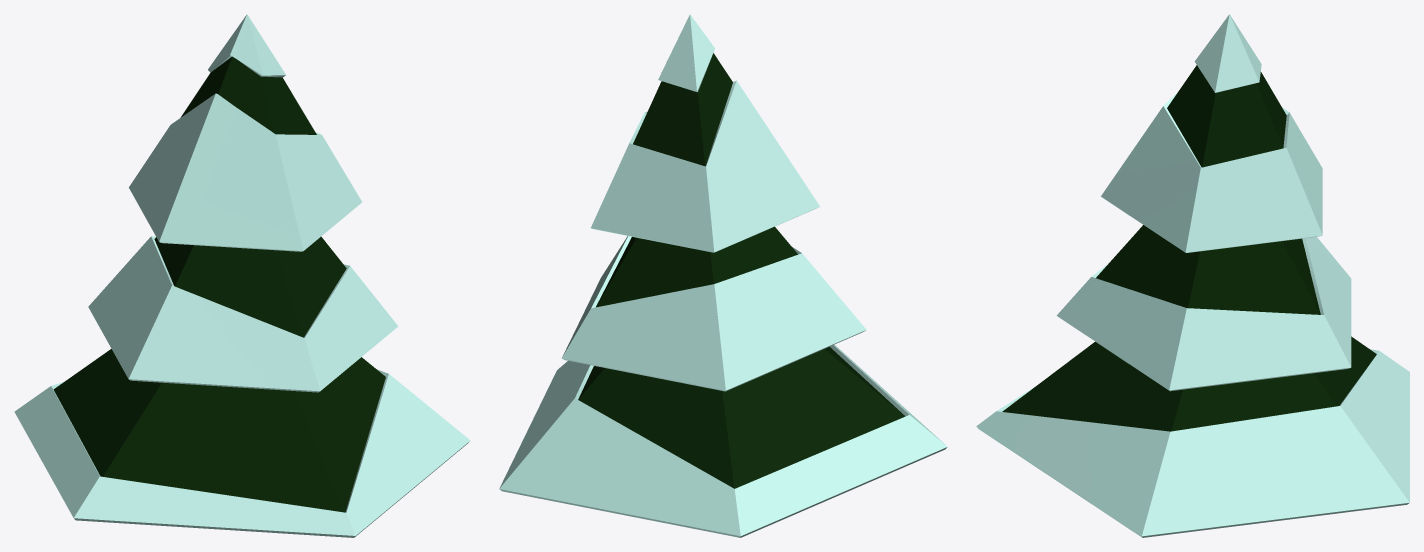
Rendered from Tree7.FBX.
3 renders of one model, left to right at view 1: azimuth 30°, elevation 25°; view 2: azimuth 150°, elevation 25°; view 3: azimuth 270°, elevation 25°, orthographic.
Visible parts, largest first — view 1: Tree7_C, Tree7_a; view 2: Tree7_C, Tree7_a; view 3: Tree7_C, Tree7_a.
Part boxes in pixels (<box>): Tree7_C: <box>14,14,470,537</box>; Tree7_a: <box>53,56,385,512</box>; Tree7_C: <box>499,14,947,537</box>; Tree7_a: <box>578,53,905,488</box>; Tree7_C: <box>976,14,1409,537</box>; Tree7_a: <box>1002,65,1376,431</box>.
Bounding box in the file's own units: 11765 × 13062 × 11197.
